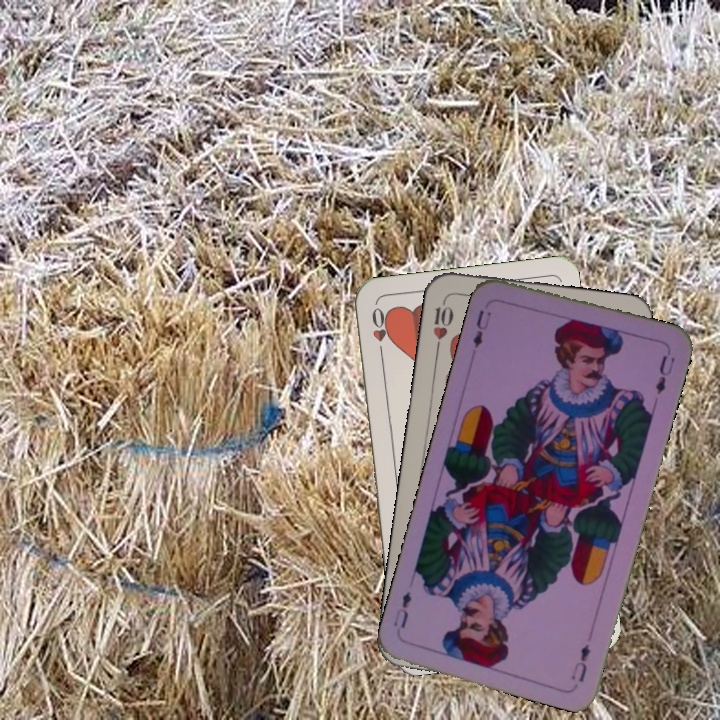EU: (468, 306, 494, 357), (567, 640, 593, 685)
H10: (429, 294, 456, 353)
HO: (367, 303, 391, 361)
